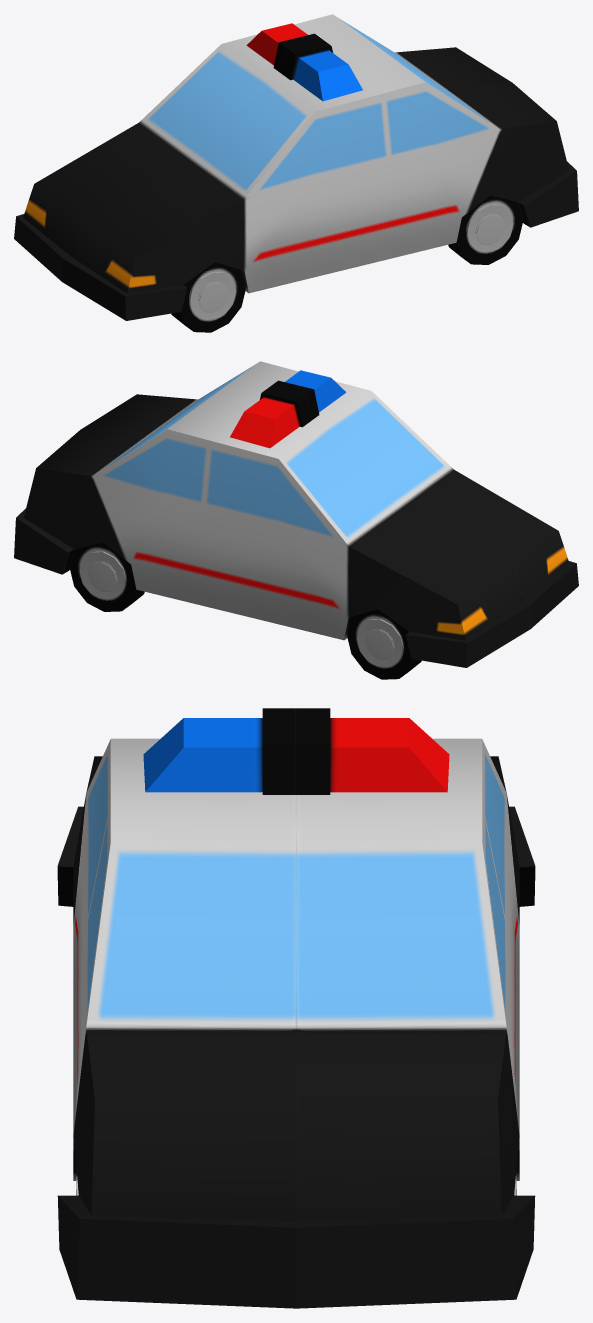
File: mobil_police.fbx
The picture shows the model from 3 angles, top to bottom: view 1: azimuth 30°, elevation 25°; view 2: azimuth 150°, elevation 25°; view 3: azimuth 270°, elevation 25°; orthographic projection. The views are drawn at different scales.
Visible parts, largest first — view 1: police; view 2: police; view 3: police.
Boxes of the visible parts, x1=… form: police: x1=14, y1=14, x2=578, y2=332; police: x1=14, y1=361, x2=578, y2=679; police: x1=57, y1=708, x2=535, y2=1308.
Bounding box in the file's own units: 35.98 × 15.58 × 15.77.
